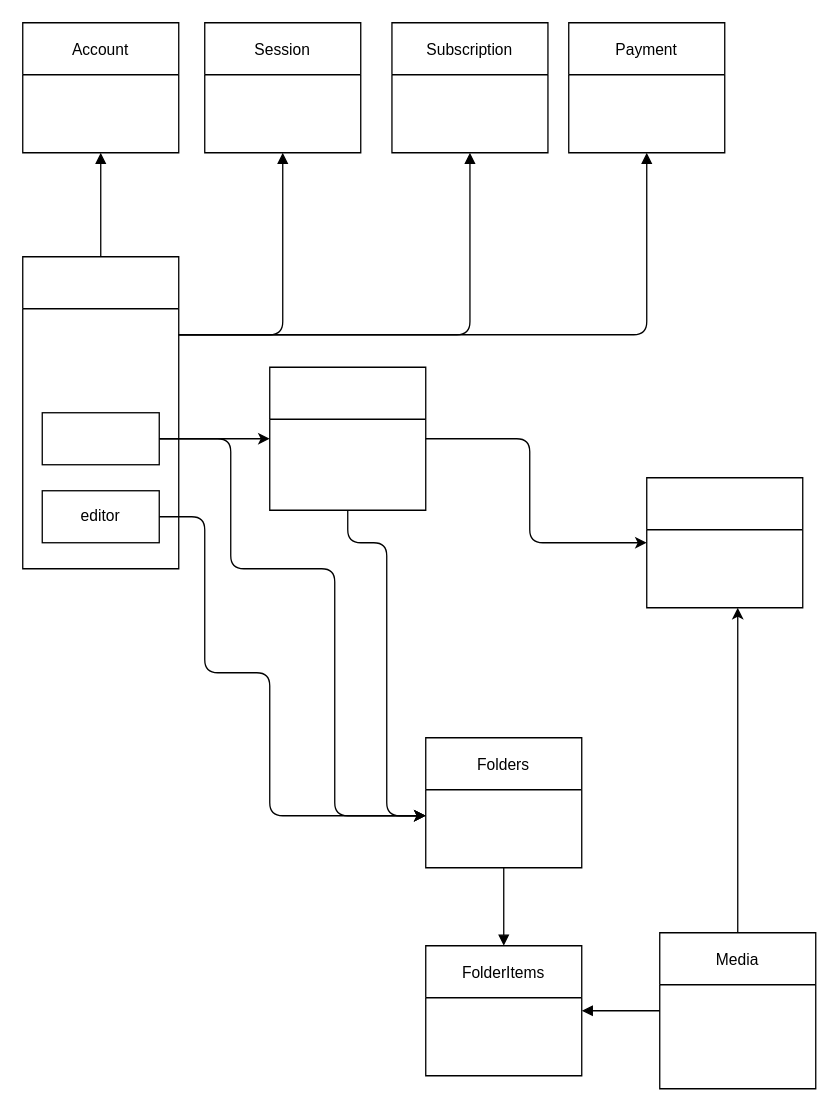
The diagram is 838 pixels wide and 1112 high, and some of its shapes have lost their labels. Each missing label, with the box of its shape:
Contributions: (645, 476, 803, 608)
creator: (41, 411, 159, 465)
User: (21, 255, 179, 569)
YtCreator: (268, 366, 426, 510)
